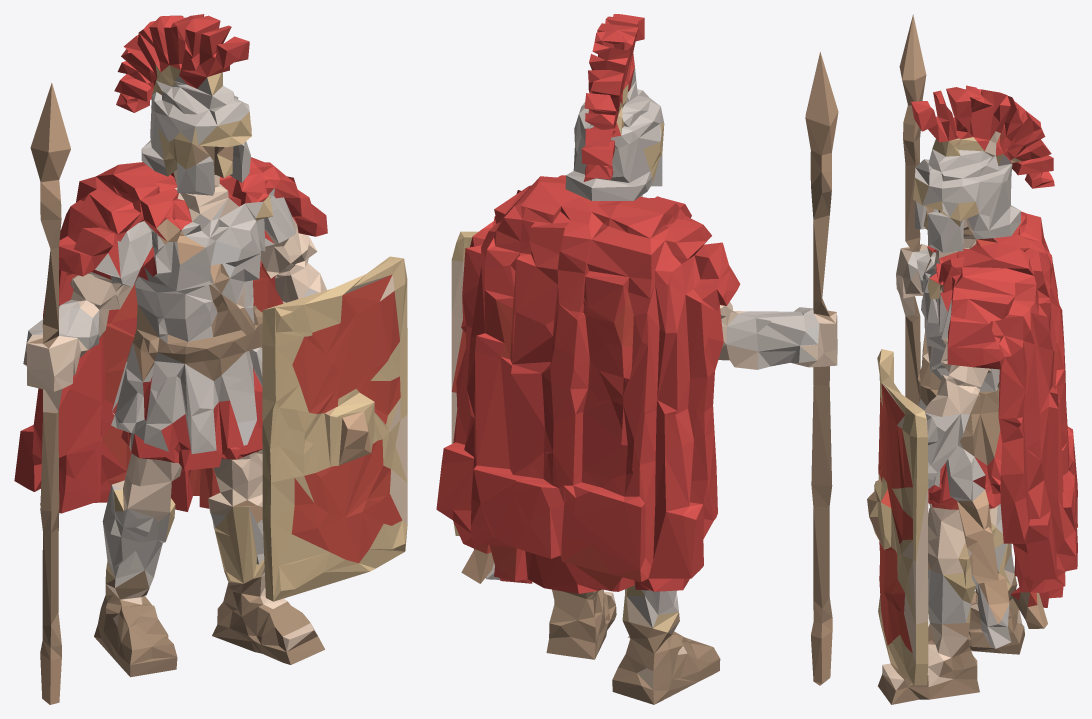
File: roman_legionary.glb
3 renders of one model, left to right at view 1: azimuth 30°, elevation 25°; view 2: azimuth 150°, elevation 25°; view 3: azimuth 270°, elevation 25°, orthographic. The views are drawn at different scales.
Visible parts, largest first — view 1: part_3, part_5, part_4, part_2, part_7, part_0, part_1, part_6; view 2: part_3, part_2, part_5, part_1, part_0, part_7, part_4; view 3: part_3, part_5, part_2, part_0, part_4, part_1, part_7.
Boxes of the visible parts, x1=… form: part_3: x1=14, y1=14, x2=327, y2=513; part_5: x1=28, y1=76, x2=318, y2=587; part_4: x1=105, y1=64, x2=407, y2=601; part_2: x1=27, y1=143, x2=324, y2=677; part_7: x1=101, y1=265, x2=402, y2=563; part_0: x1=23, y1=169, x2=407, y2=651; part_1: x1=30, y1=83, x2=371, y2=704; part_6: x1=25, y1=92, x2=256, y2=541; part_3: x1=436, y1=14, x2=740, y2=593; part_2: x1=546, y1=172, x2=836, y2=704; part_5: x1=486, y1=67, x2=819, y2=627; part_1: x1=461, y1=52, x2=838, y2=685; part_0: x1=451, y1=195, x2=837, y2=689; part_7: x1=451, y1=292, x2=641, y2=591; part_4: x1=451, y1=84, x2=678, y2=632; part_3: x1=911, y1=85, x2=1077, y2=607; part_5: x1=908, y1=149, x2=1020, y2=648; part_2: x1=878, y1=127, x2=1029, y2=704; part_0: x1=882, y1=131, x2=1022, y2=690; part_4: x1=869, y1=137, x2=1011, y2=685; part_1: x1=867, y1=14, x2=1047, y2=628; part_7: x1=878, y1=131, x2=1077, y2=652.
Size of the model in its own units: 1.21 by 1.9 by 0.6322.
